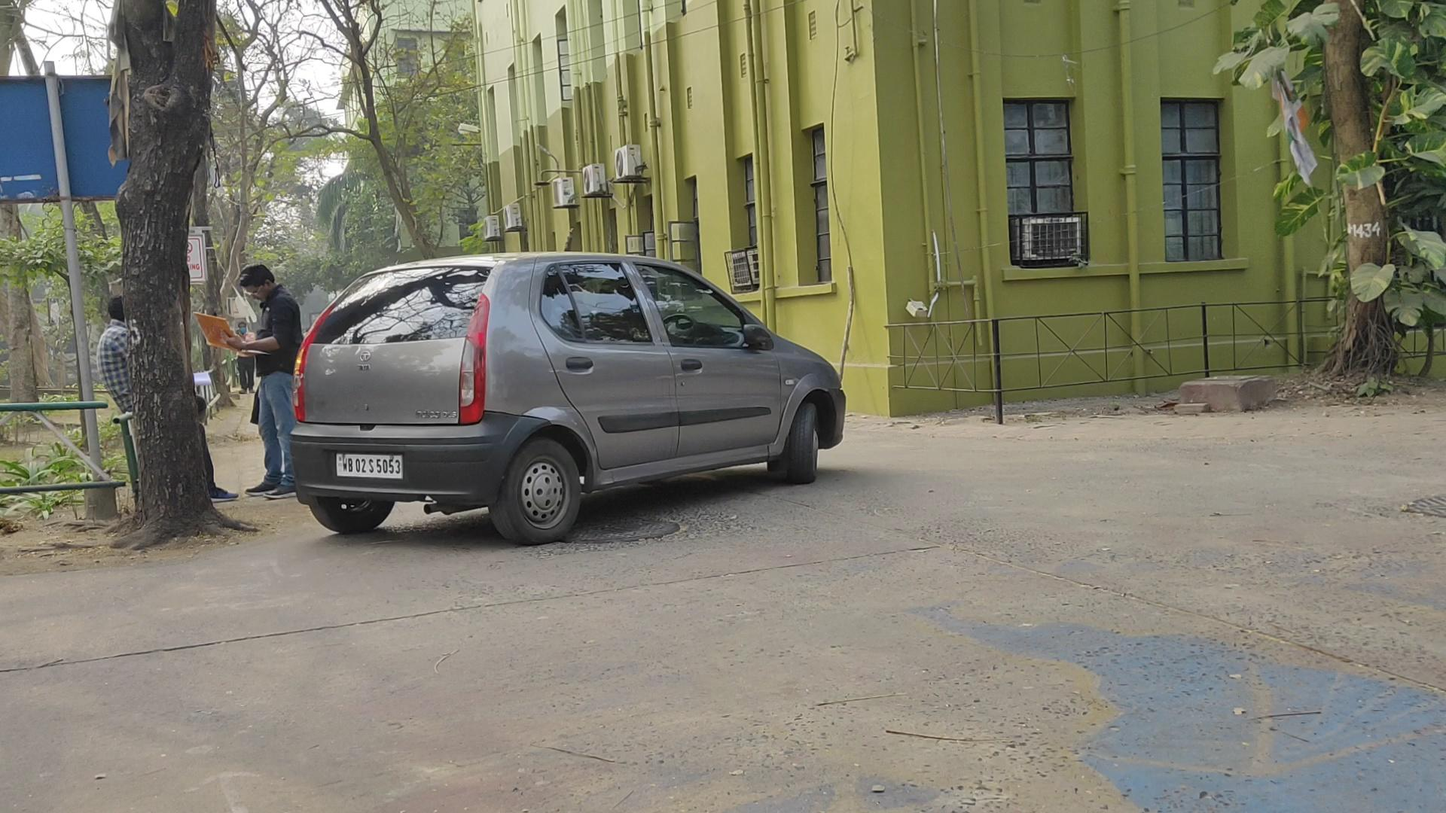car: (290, 251, 847, 546)
